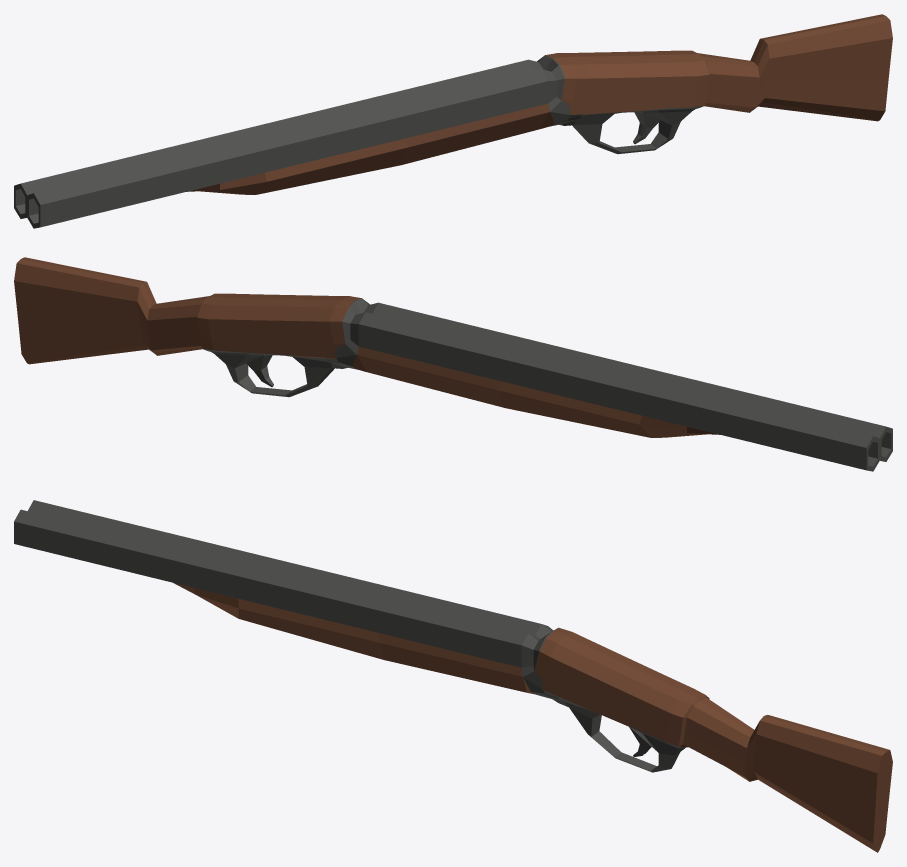
The model's file is Shotgun.fbx.
The picture shows the model from 3 angles, top to bottom: view 1: azimuth 30°, elevation 25°; view 2: azimuth 150°, elevation 25°; view 3: azimuth 330°, elevation 25°; orthographic projection.
Parts seen in each view (by area): view 1: Cube.003; view 2: Cube.003; view 3: Cube.003.
Boxes of the visible parts, <box> form: Cube.003: <box>14,14,892,228</box>; Cube.003: <box>14,257,892,471</box>; Cube.003: <box>14,500,892,852</box>.
Size of the model in its own units: 35.28 by 5.58 by 2.04.
1 material, 1 textured.
